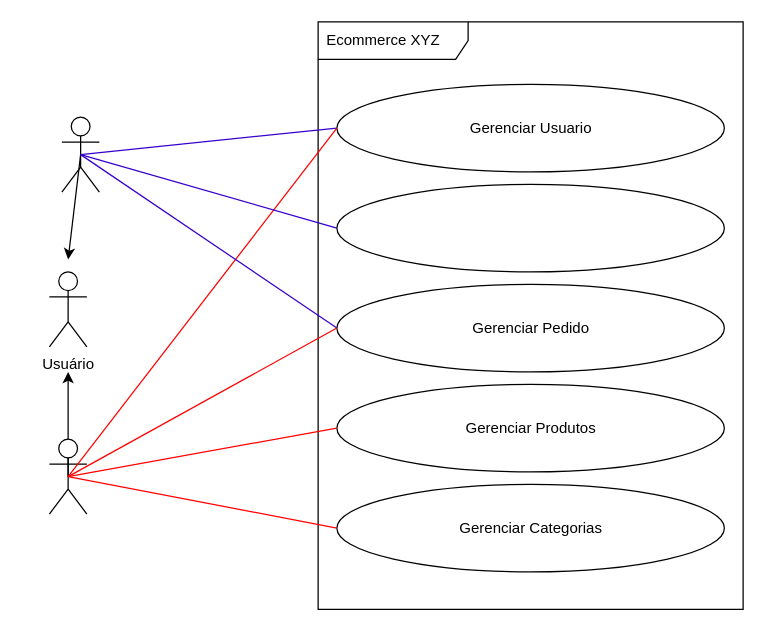
The diagram is 765 pixels wide and 631 high, and some of its shapes have lost their labels. Here are the shapes that lost their labels. From the top down, the centre of each, then its label:
point 80,154: Cliente
point 530,227: Gerenciar Carrinho
point 67,476: Administrador
